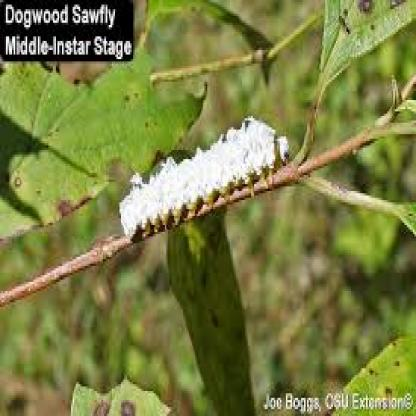sawfly: (116, 115, 298, 246)
